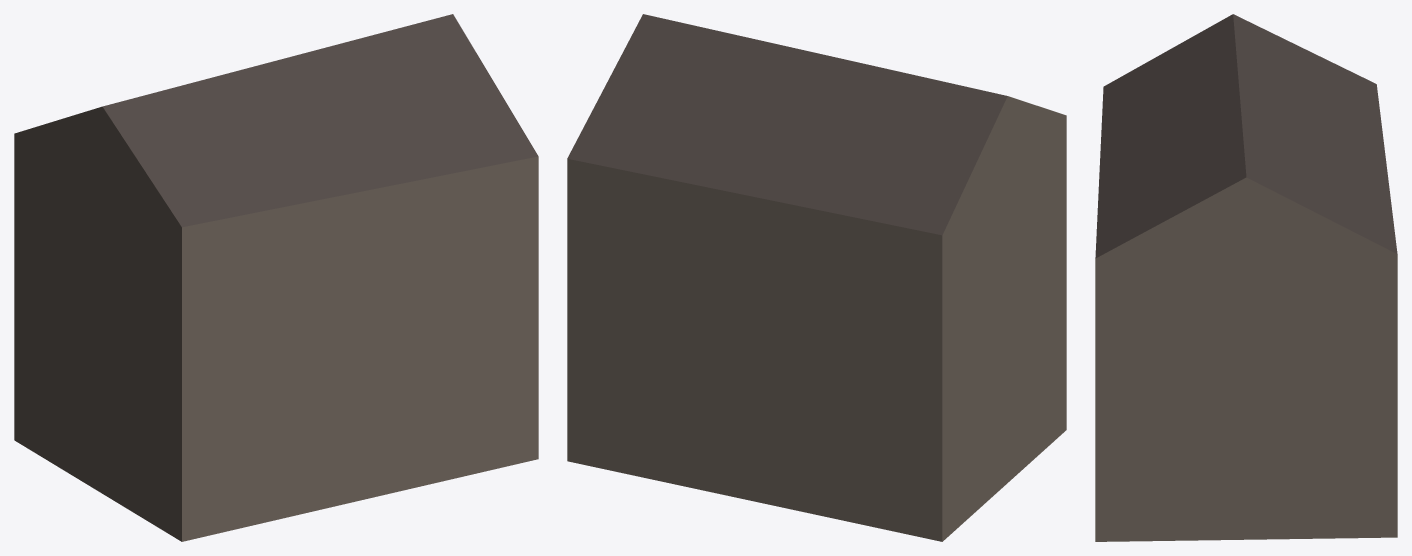
3 views of the same model, side by side, from view 1: azimuth 30°, elevation 25°; view 2: azimuth 150°, elevation 25°; view 3: azimuth 270°, elevation 25° (orthographic). The views are drawn at different scales.
Visible parts, largest first — view 1: HP-w1515071150; view 2: HP-w1515071150; view 3: HP-w1515071150.
Part boxes in pixels (x1,y1,x2,y2): HP-w1515071150: (14, 14, 538, 541); HP-w1515071150: (567, 14, 1066, 541); HP-w1515071150: (1095, 14, 1397, 541).
Bounding box in the file's own units: 7.76 × 7.67 × 5.8.
